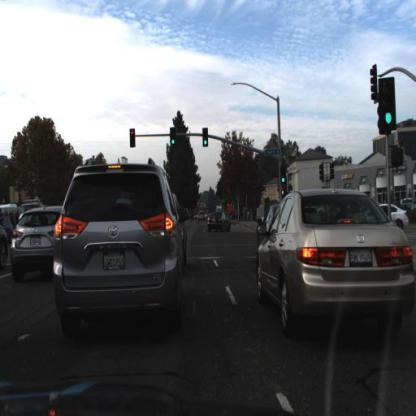car: (60, 161, 189, 341), (255, 187, 410, 333), (11, 207, 64, 284), (381, 202, 410, 233), (253, 203, 271, 252), (376, 205, 410, 230), (205, 209, 234, 234), (198, 208, 207, 226), (200, 208, 204, 220)
trafficLight: (380, 78, 401, 139), (201, 124, 211, 153), (168, 125, 178, 149), (128, 130, 137, 153), (170, 131, 178, 154), (280, 169, 288, 192), (202, 129, 210, 148)
truck: (1, 198, 43, 242)
